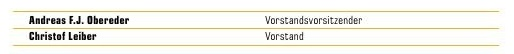table: (0, 0, 514, 54)
